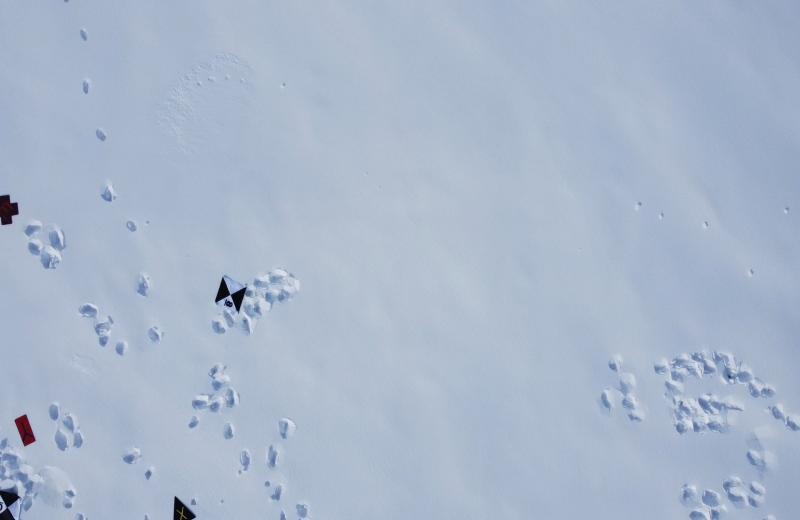Cross: (0, 191, 20, 228)
Rectangle: (14, 411, 37, 447)
Triangle: (166, 495, 202, 520)
